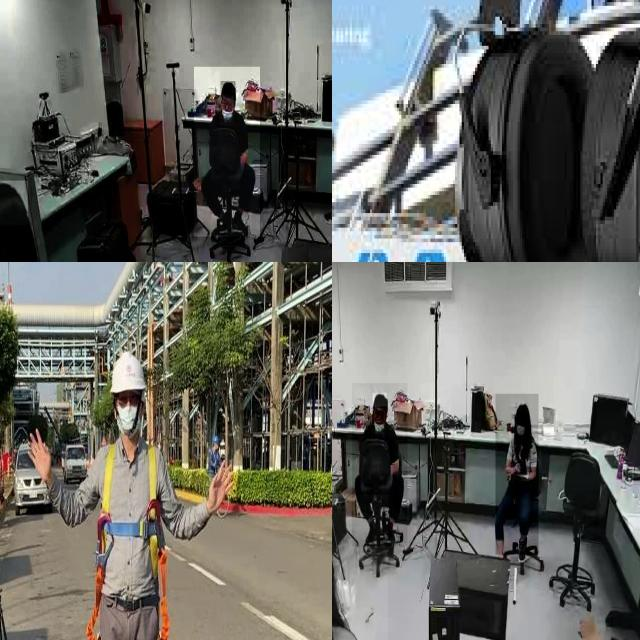Ear-protection: (448, 13, 586, 262), (580, 16, 640, 262)
Harness: (87, 444, 169, 640)
face_mask: (514, 414, 529, 444), (220, 100, 234, 126)
face_nomask: (372, 407, 386, 425)
hand_noglove: (513, 460, 521, 473)
head_nohelmet: (0, 180, 28, 225), (220, 81, 236, 96), (372, 393, 388, 407), (515, 403, 529, 415)
person: (194, 67, 260, 237), (352, 383, 408, 547), (495, 394, 539, 556)
shoes: (231, 208, 252, 240), (212, 209, 232, 239), (381, 518, 399, 546), (516, 533, 530, 569), (364, 519, 380, 546), (323, 205, 332, 228)
